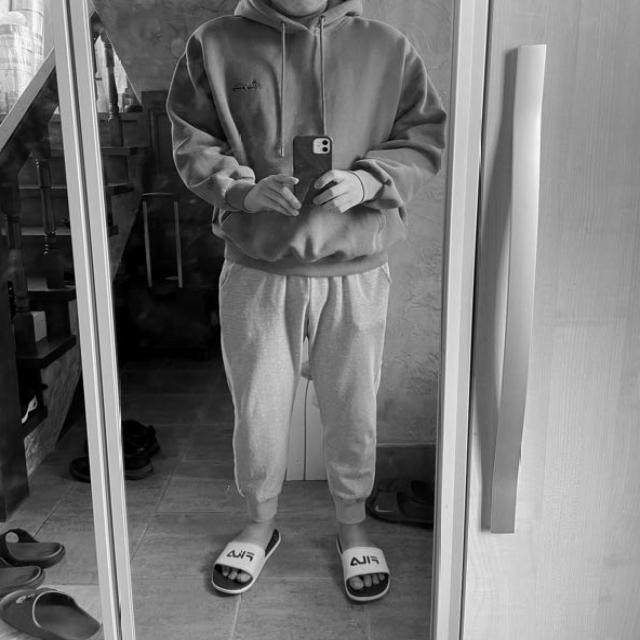hoodies: (173, 0, 450, 268)
trainingpants: (216, 262, 392, 530)
